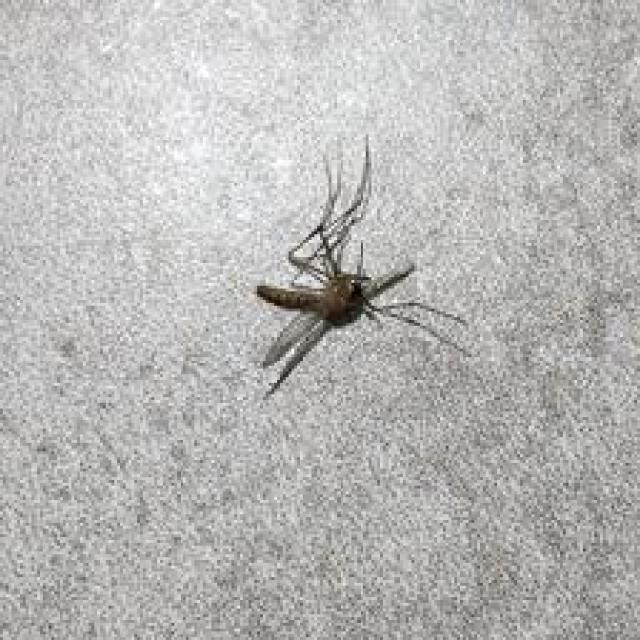Culex: (252, 133, 472, 401)
